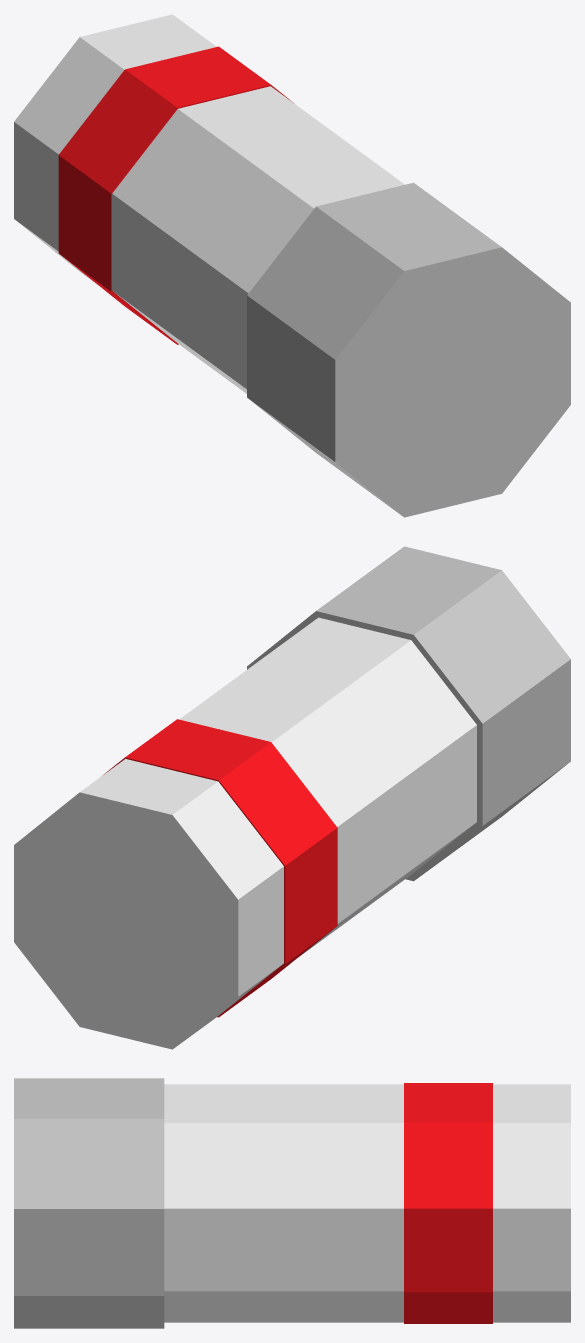
The model's file is ce_ammo_shotgun_beanbag_a.obj.
The picture shows the model from 3 angles, top to bottom: view 1: azimuth 30°, elevation 25°; view 2: azimuth 150°, elevation 25°; view 3: azimuth 270°, elevation 25°; orthographic projection. The views are drawn at different scales.
Visible parts, largest first — view 1: ce_ammo_shotgun_beanbag_a_0, ce_ammo_shotgun_beanbag_a_1, ce_ammo_shotgun_beanbag_a_2, ce_ammo_shotgun_beanbag_a_3; view 2: ce_ammo_shotgun_beanbag_a_3, ce_ammo_shotgun_beanbag_a_1, ce_ammo_shotgun_beanbag_a_0, ce_ammo_shotgun_beanbag_a_2; view 3: ce_ammo_shotgun_beanbag_a_1, ce_ammo_shotgun_beanbag_a_0, ce_ammo_shotgun_beanbag_a_2, ce_ammo_shotgun_beanbag_a_3.
Boxes of the visible parts, x1=… form: ce_ammo_shotgun_beanbag_a_0: x1=247, y1=182, x2=570, y2=517; ce_ammo_shotgun_beanbag_a_1: x1=112, y1=86, x2=404, y2=393; ce_ammo_shotgun_beanbag_a_2: x1=58, y1=46, x2=293, y2=344; ce_ammo_shotgun_beanbag_a_3: x1=14, y1=14, x2=216, y2=283; ce_ammo_shotgun_beanbag_a_3: x1=14, y1=759, x2=283, y2=1049; ce_ammo_shotgun_beanbag_a_1: x1=179, y1=617, x2=476, y2=956; ce_ammo_shotgun_beanbag_a_0: x1=247, y1=546, x2=570, y2=881; ce_ammo_shotgun_beanbag_a_2: x1=102, y1=719, x2=337, y2=1017; ce_ammo_shotgun_beanbag_a_1: x1=164, y1=1084, x2=403, y2=1322; ce_ammo_shotgun_beanbag_a_0: x1=14, y1=1078, x2=164, y2=1328; ce_ammo_shotgun_beanbag_a_2: x1=404, y1=1083, x2=492, y2=1323; ce_ammo_shotgun_beanbag_a_3: x1=493, y1=1084, x2=570, y2=1322.
Size of the model in its own units: 0.1746 by 0.1746 by 0.42.
